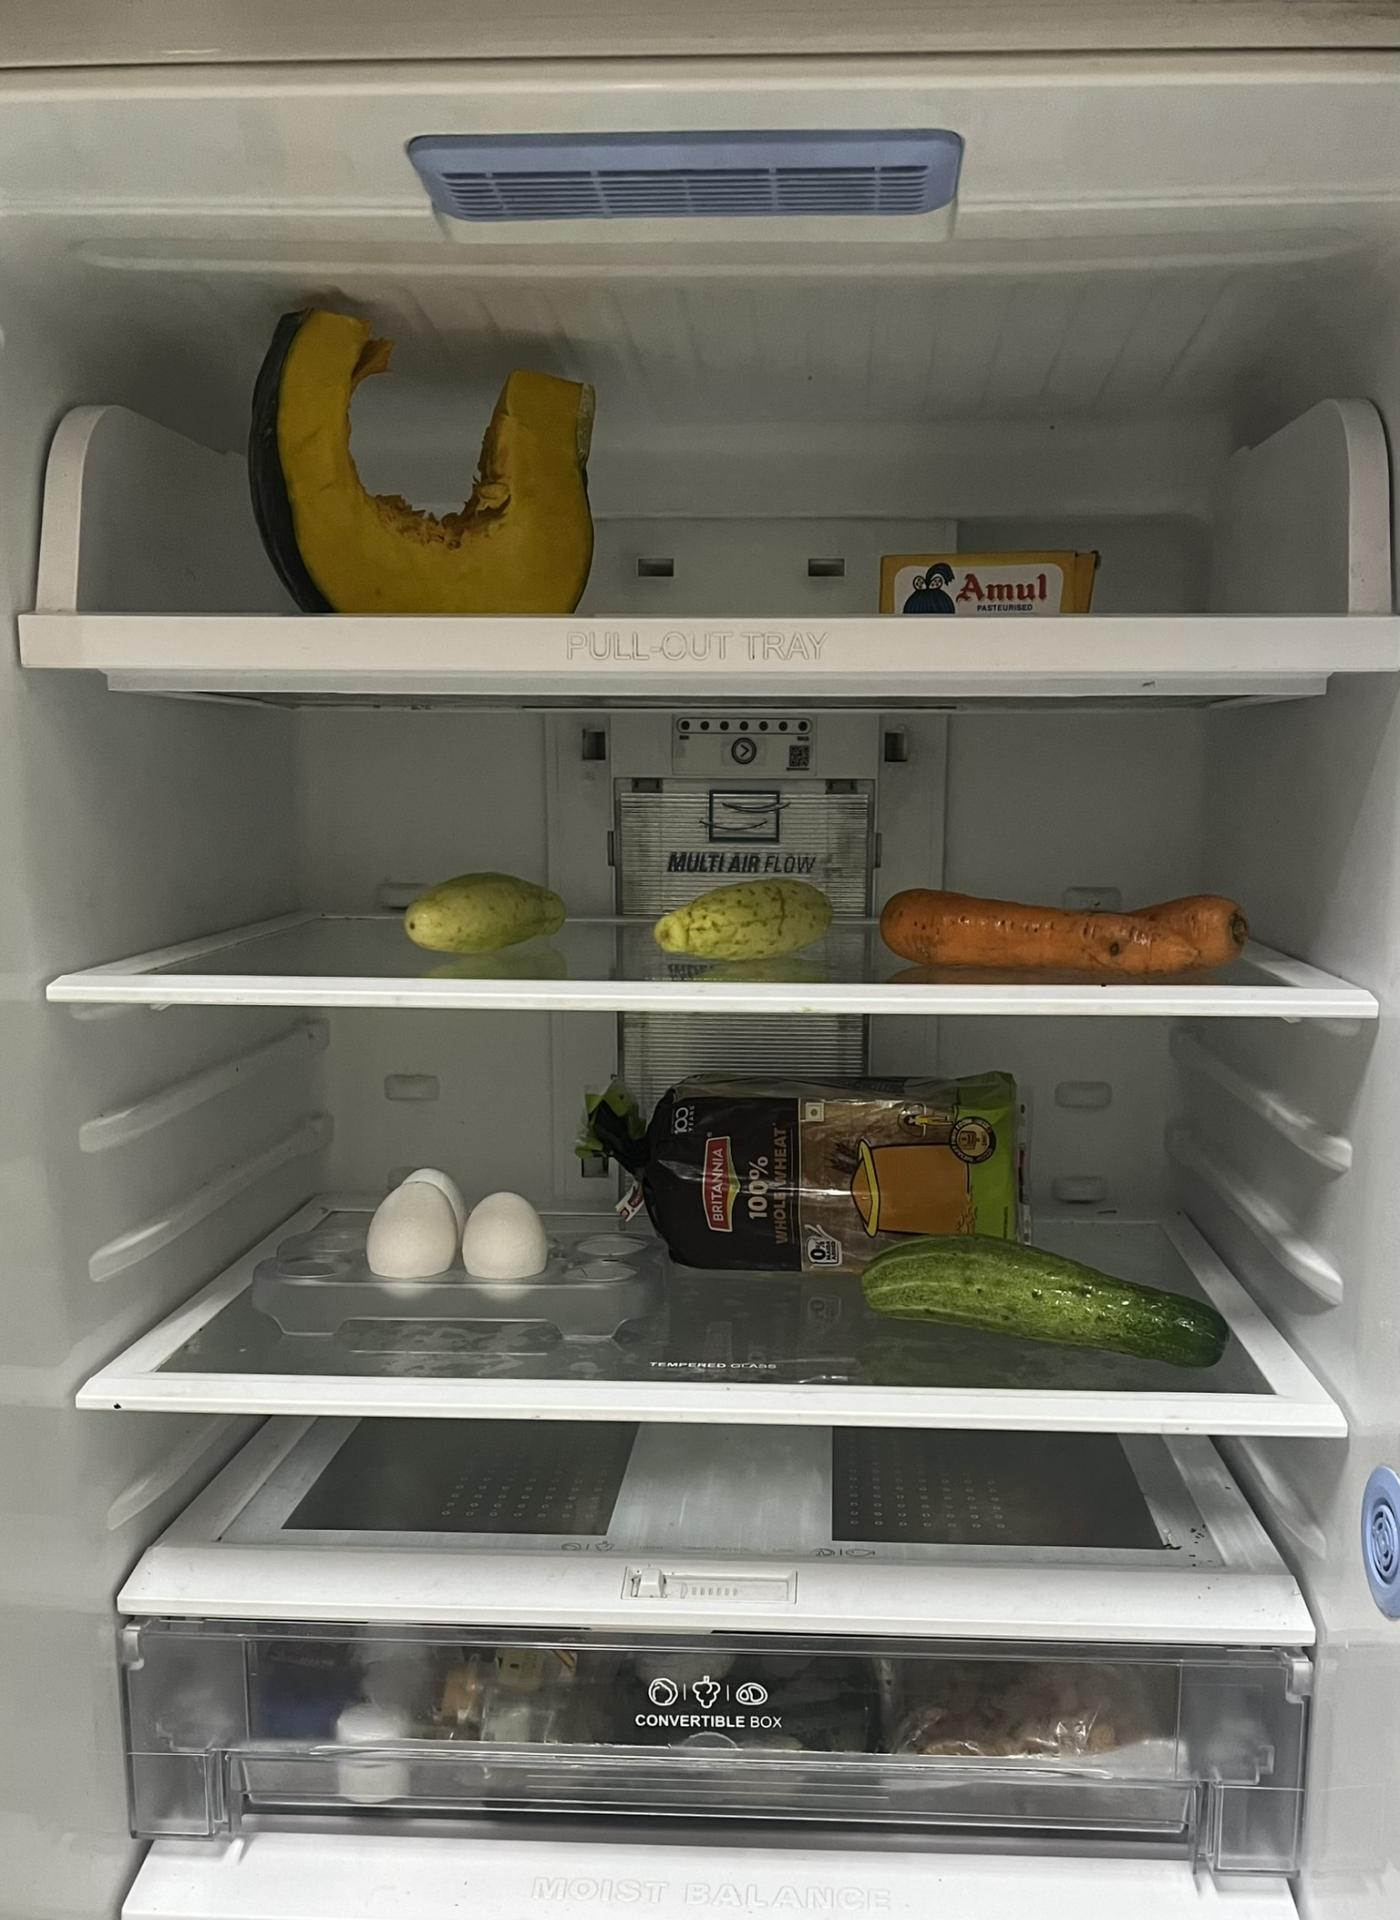bread: (604, 1067, 1033, 1264)
butter: (881, 544, 1096, 613)
carrots: (884, 884, 1255, 972)
cucumber: (854, 1243, 1251, 1374), (400, 872, 570, 959), (655, 881, 842, 950)
egg: (371, 1161, 547, 1283)
pumpkin: (249, 297, 614, 616)
